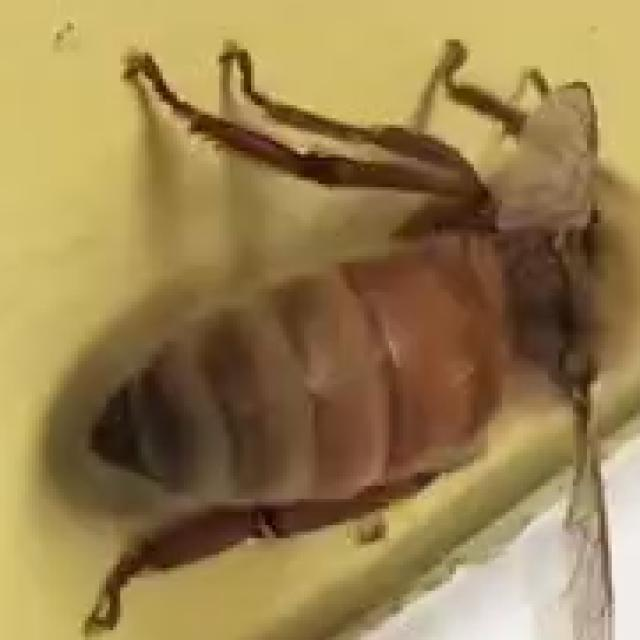honeybee: (70, 144, 640, 639)
